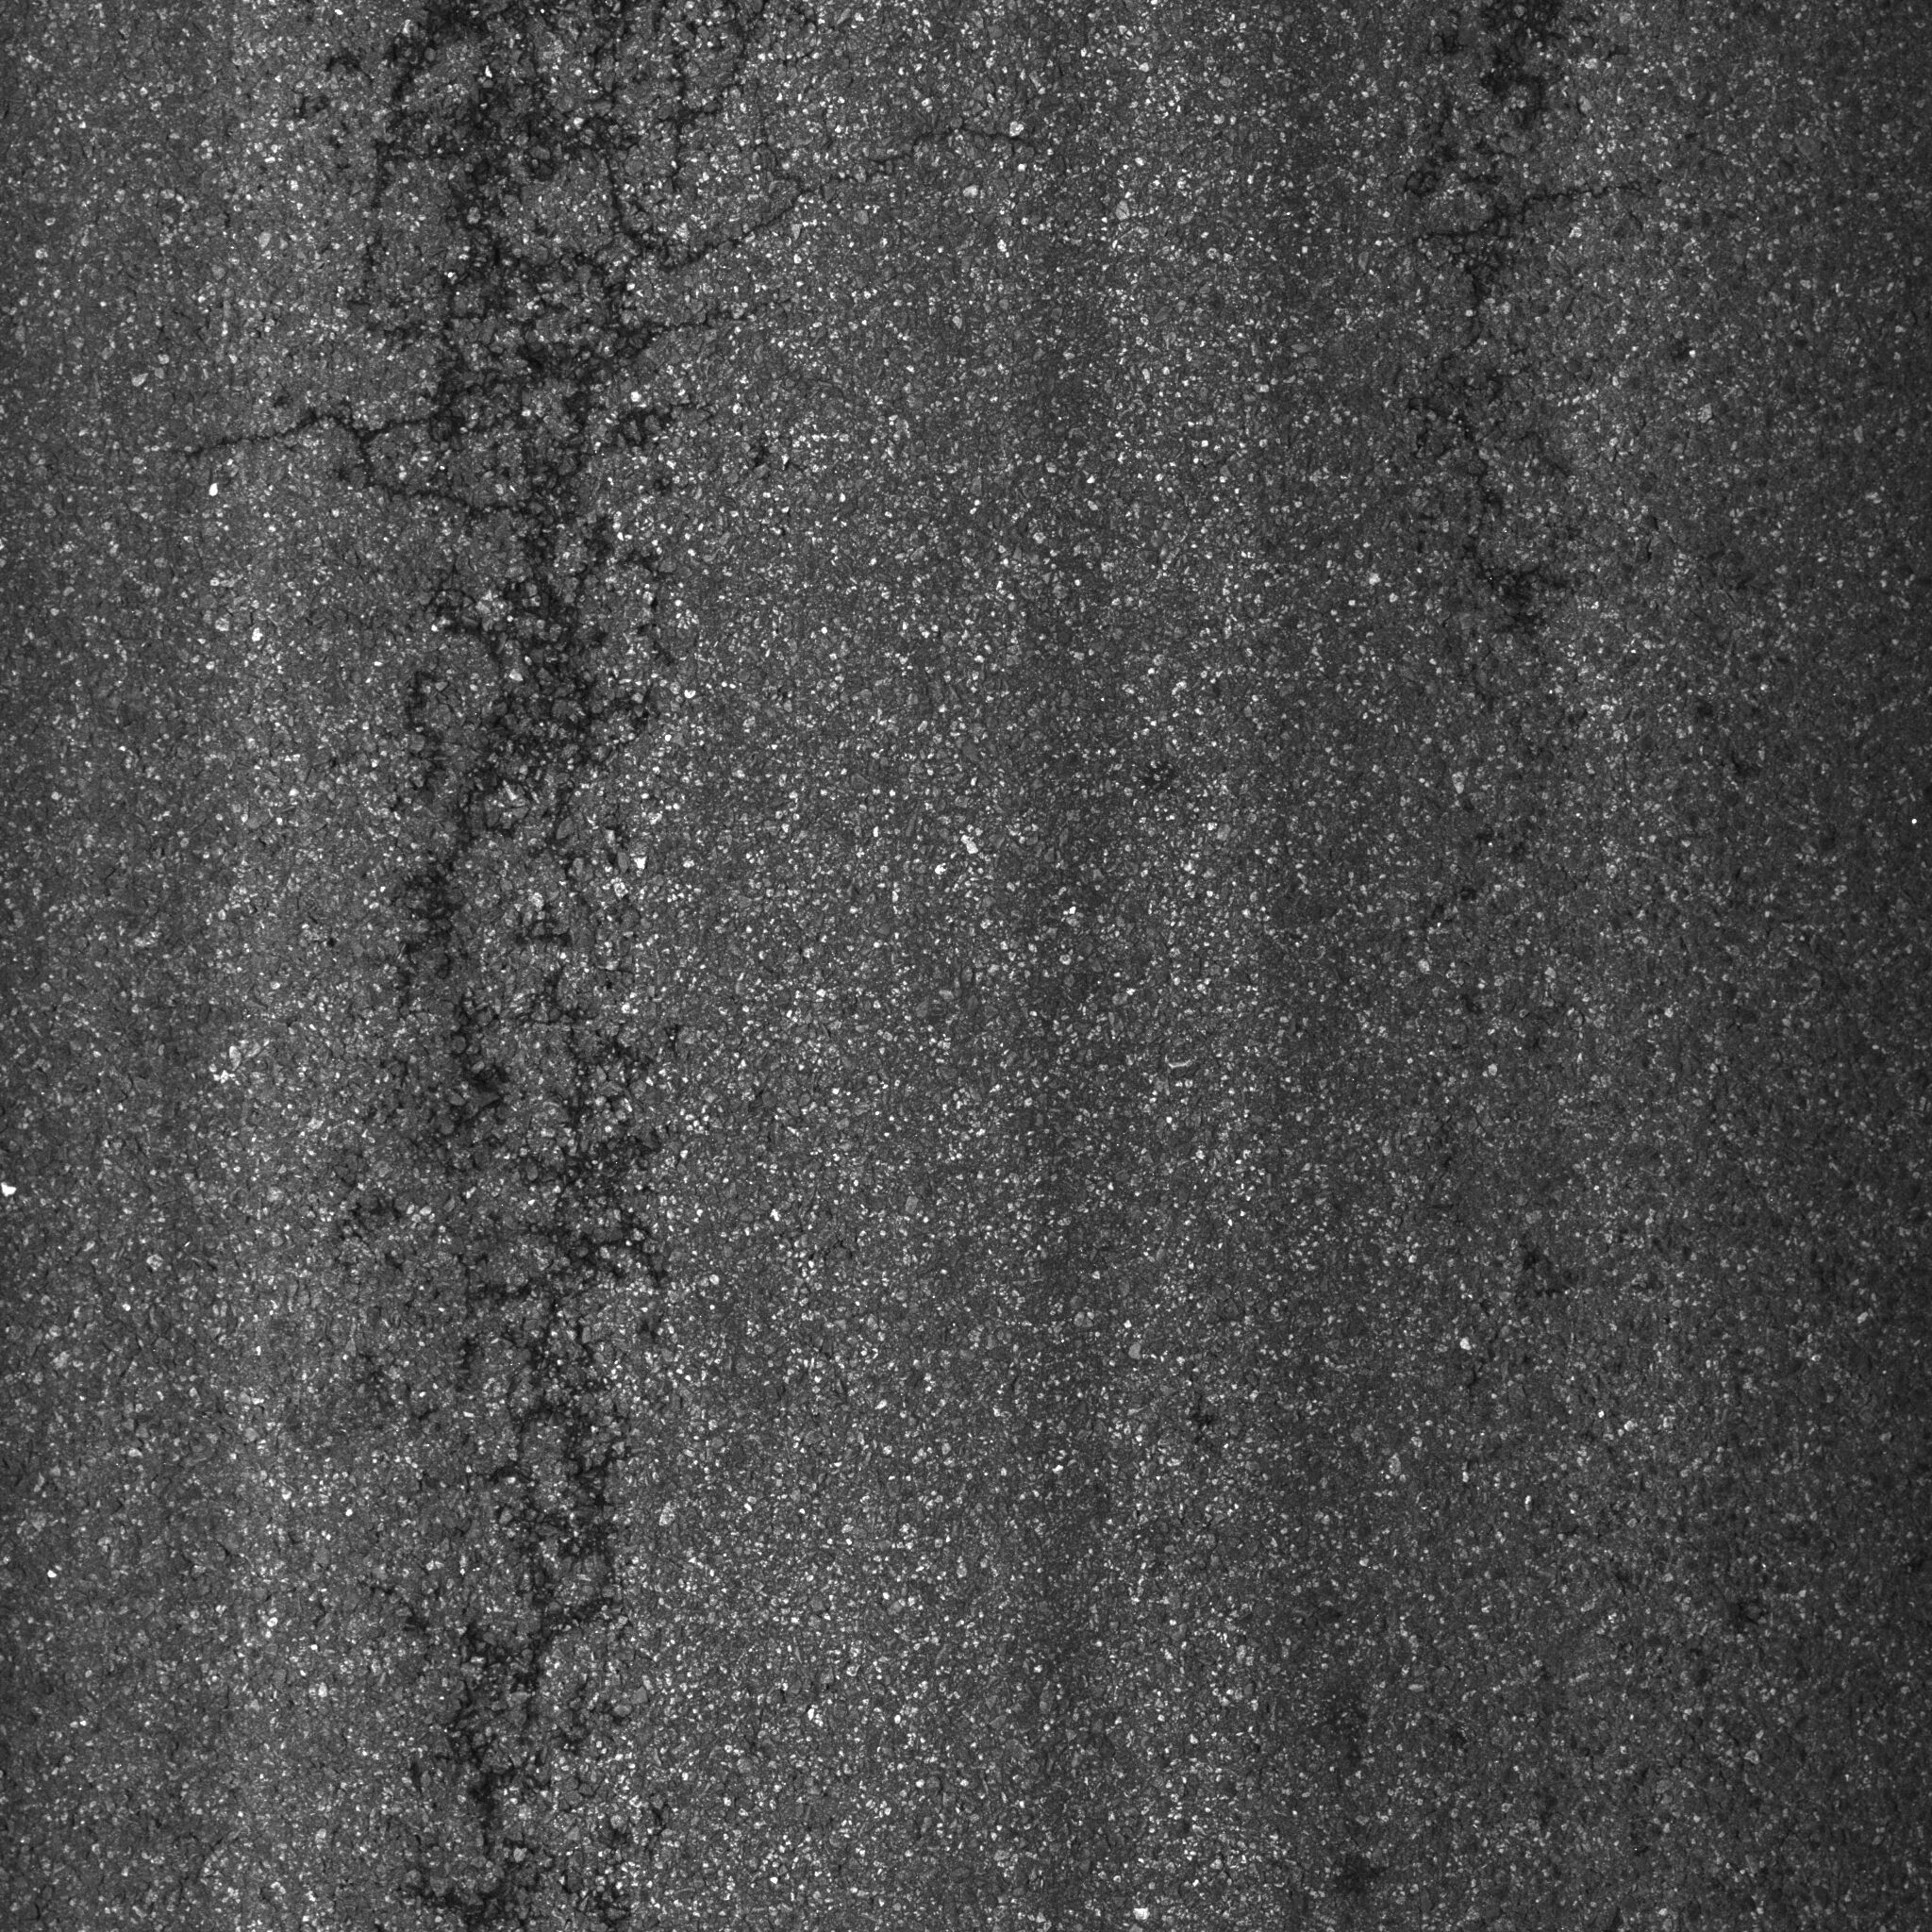alligator: (207, 14, 902, 1932)
